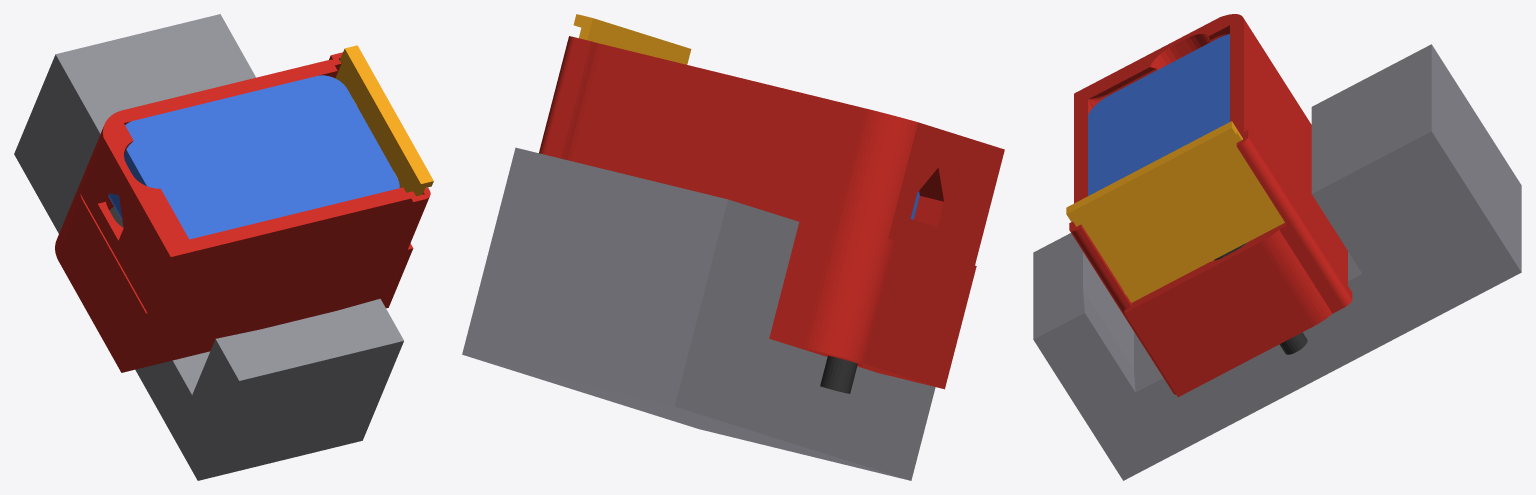
File: dragy_assembly_v7.obj
3 renders of one model, left to right at view 1: azimuth 30°, elevation 25°; view 2: azimuth 150°, elevation 25°; view 3: azimuth 270°, elevation 25°, orthographic. The views are drawn at different scales.
Visible parts, largest first — view 1: front_swingarm_pad_schematic, dragy_holder, dragy, gate; view 2: front_swingarm_pad_schematic, dragy_holder, gate, screws; view 3: front_swingarm_pad_schematic, dragy_holder, gate, dragy.
Boxes of the visible parts, <box> form: front_swingarm_pad_schematic: <box>14,14,403,480</box>; dragy_holder: <box>55,52,430,372</box>; dragy: <box>108,75,399,239</box>; gate: <box>335,45,433,196</box>; front_swingarm_pad_schematic: <box>462,147,935,480</box>; dragy_holder: <box>539,36,1004,389</box>; gate: <box>573,14,691,64</box>; screws: <box>820,355,857,393</box>; front_swingarm_pad_schematic: <box>1033,44,1521,480</box>; dragy_holder: <box>1069,14,1352,396</box>; gate: <box>1066,121,1284,302</box>; dragy: <box>1088,34,1229,195</box>.
Bounding box in the file's own units: 51.2 × 63.68 × 74.76.
